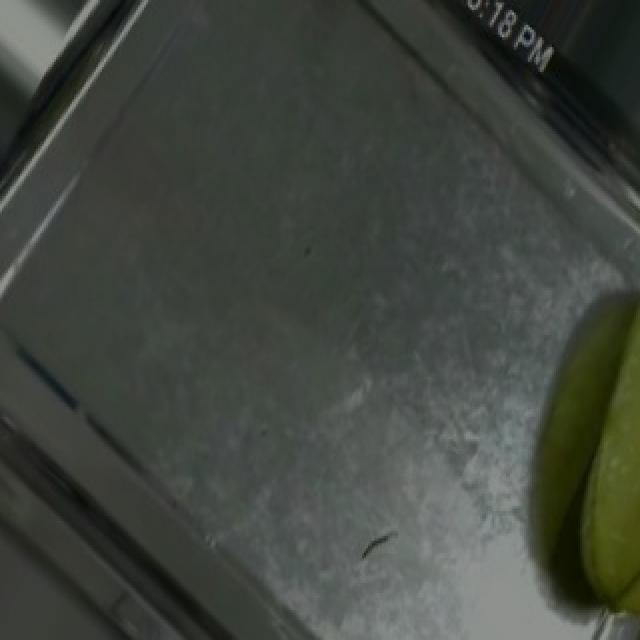fruit: (534, 322, 640, 638)
